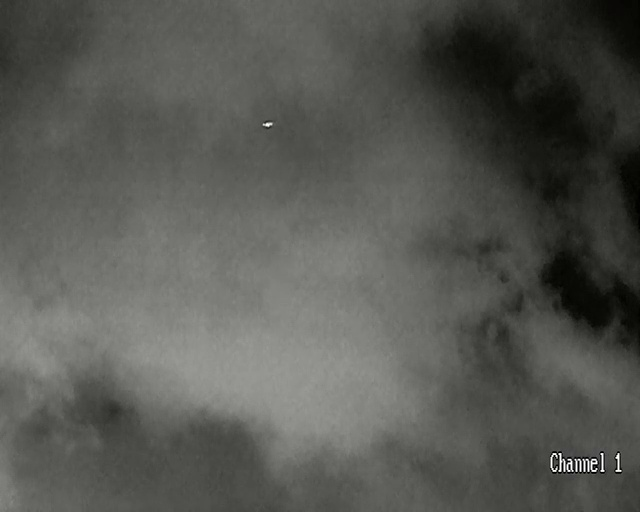uav: (262, 121, 273, 127)
